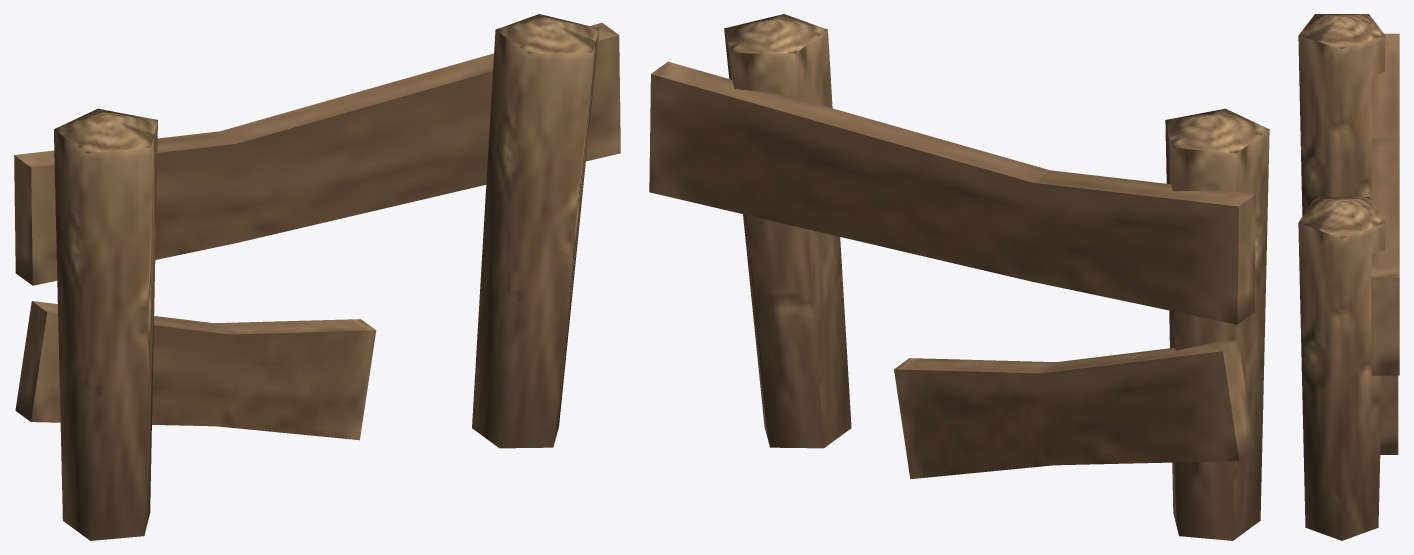
File: a_fence_3.FBX
3 views of the same model, side by side, from view 1: azimuth 30°, elevation 25°; view 2: azimuth 150°, elevation 25°; view 3: azimuth 270°, elevation 25° (orthographic). The views are drawn at different scales.
Parts seen in each view (by area): view 1: Cylinder011; view 2: Cylinder011; view 3: Cylinder011.
Boxes of the visible parts, bbox=[...] form: Cylinder011: bbox=[14, 14, 620, 540]; Cylinder011: bbox=[649, 14, 1269, 540]; Cylinder011: bbox=[1298, 14, 1399, 540].
Size of the model in its own units: 37.52 by 6.81 by 25.55.
